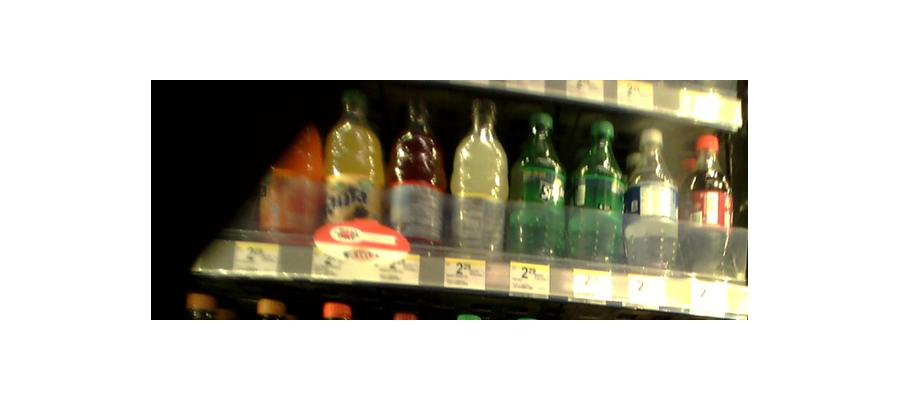bottle: (324, 88, 383, 246), (449, 97, 506, 257), (262, 102, 322, 240), (390, 90, 442, 248), (510, 108, 564, 260), (570, 119, 626, 265), (625, 126, 679, 275), (682, 131, 733, 280)
